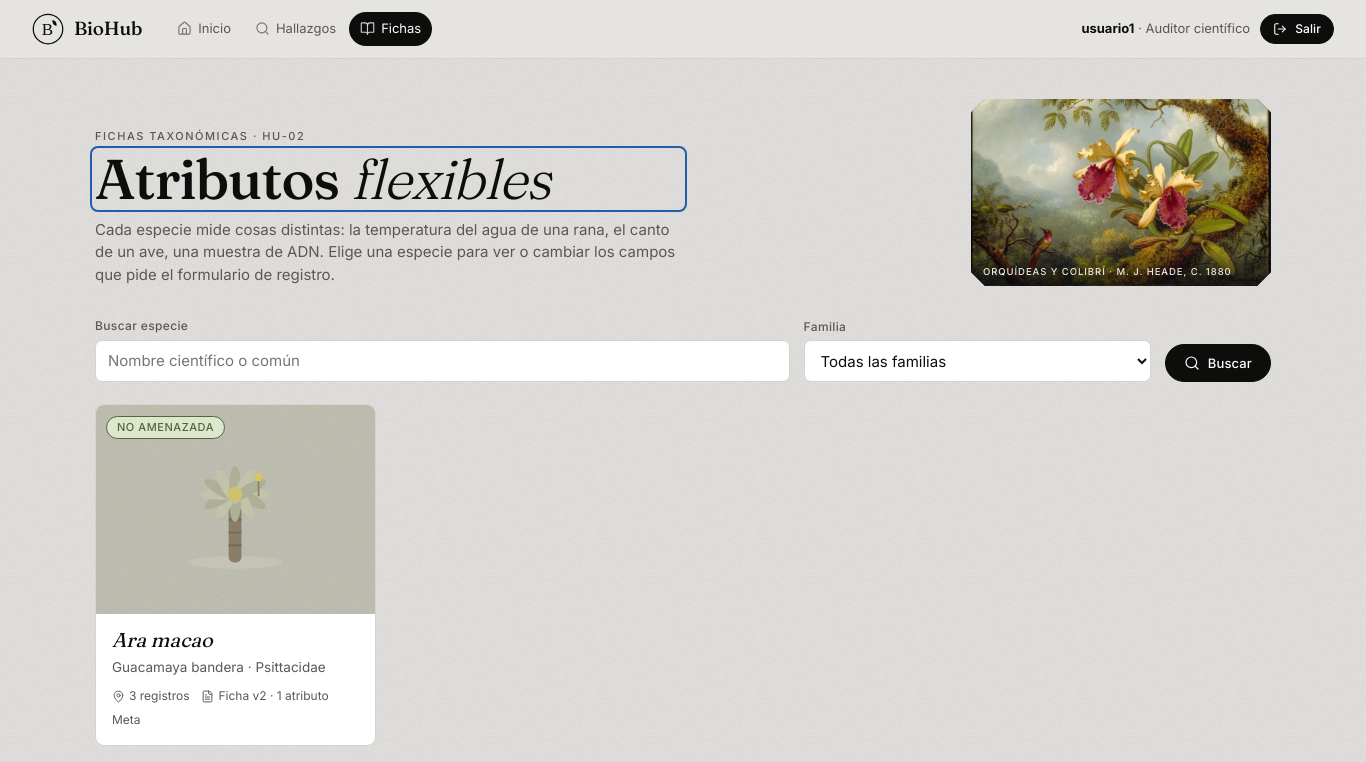
Fichas taxonómicas (HU-02, RNF8) › el auditor ve la ficha pero no la puede cambiar
The width and height of the screenshot is (1366, 762).
Step 1. Click the button with aria-label "Abrir la ficha de Ara macao" → click(235, 575), box [95, 404, 376, 746]
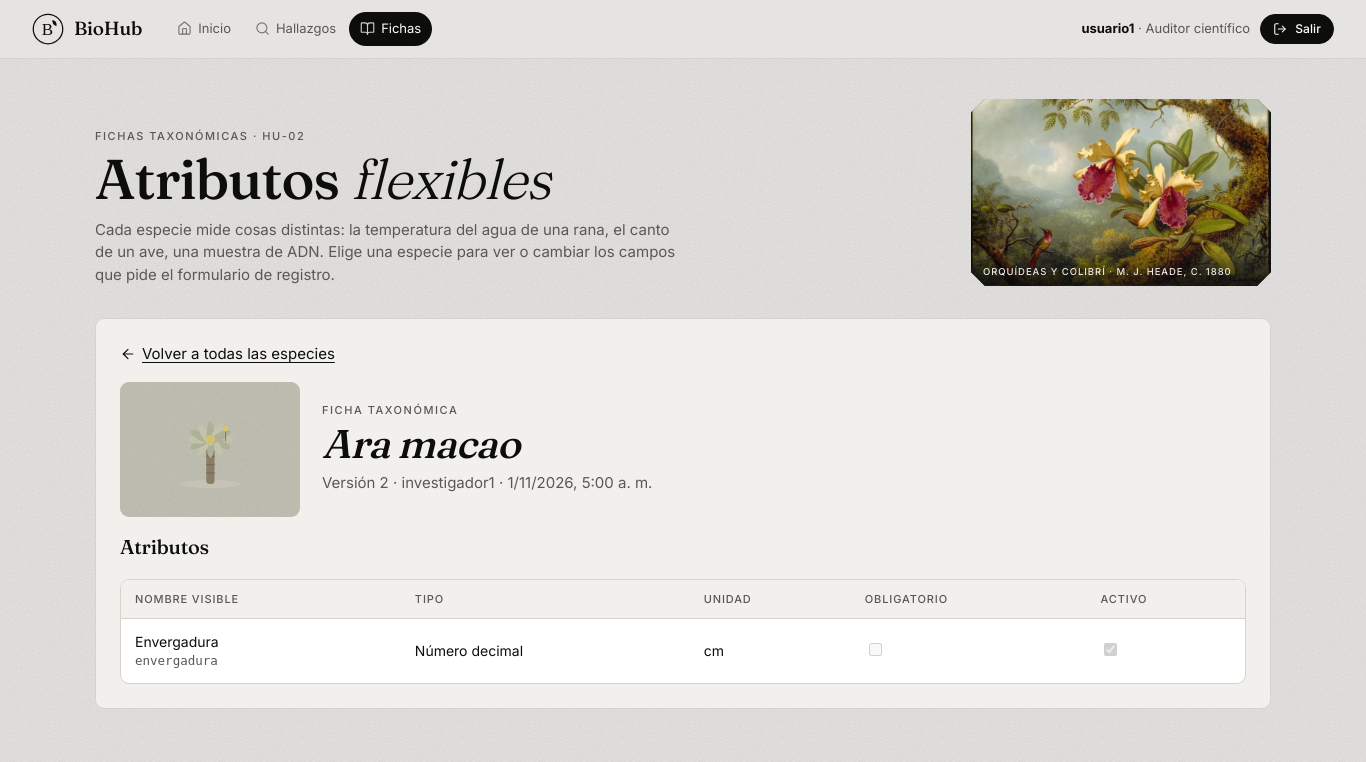
Expected: the text "Envergadura" is shown, [135, 633, 219, 650]
Expected: the checkbox named "Activo: Envergadura" is disabled, [1104, 643, 1118, 656]
